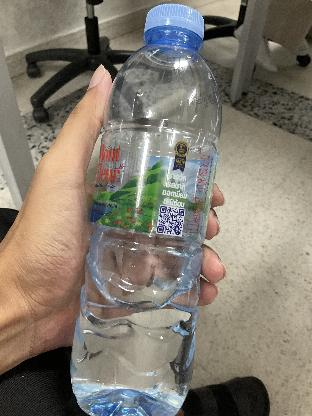Plastic Bottle: (67, 9, 207, 403)
